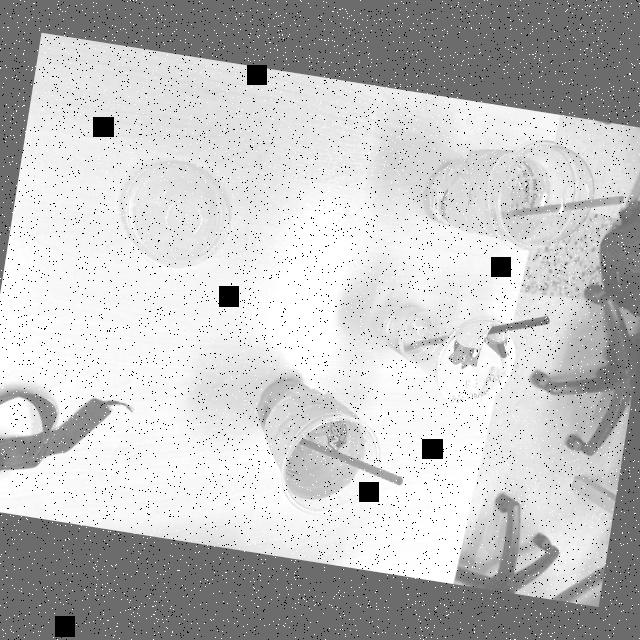plastic_cup: (412, 124, 598, 264), (236, 368, 393, 533), (366, 293, 531, 426)
plastic_cup_lid: (100, 143, 252, 291), (487, 135, 607, 261)
straw: (396, 292, 571, 378), (497, 177, 639, 244), (288, 428, 412, 498)
